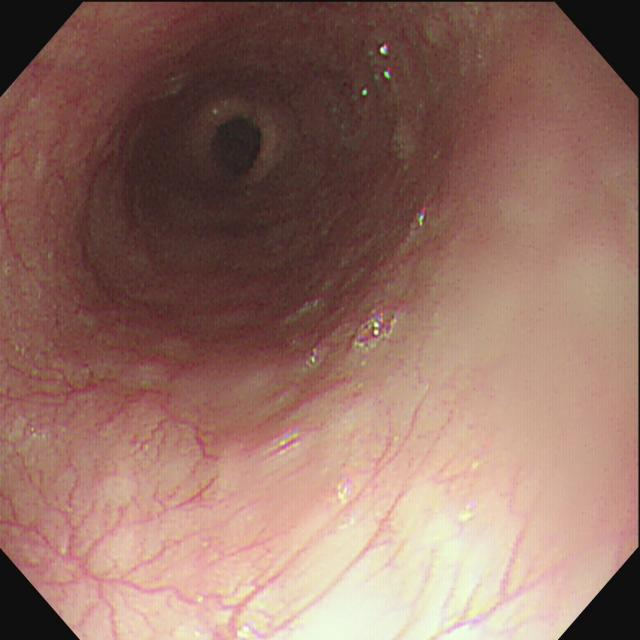E: (182, 90, 295, 206)
T: (352, 307, 399, 358)
U: (379, 43, 394, 83)
